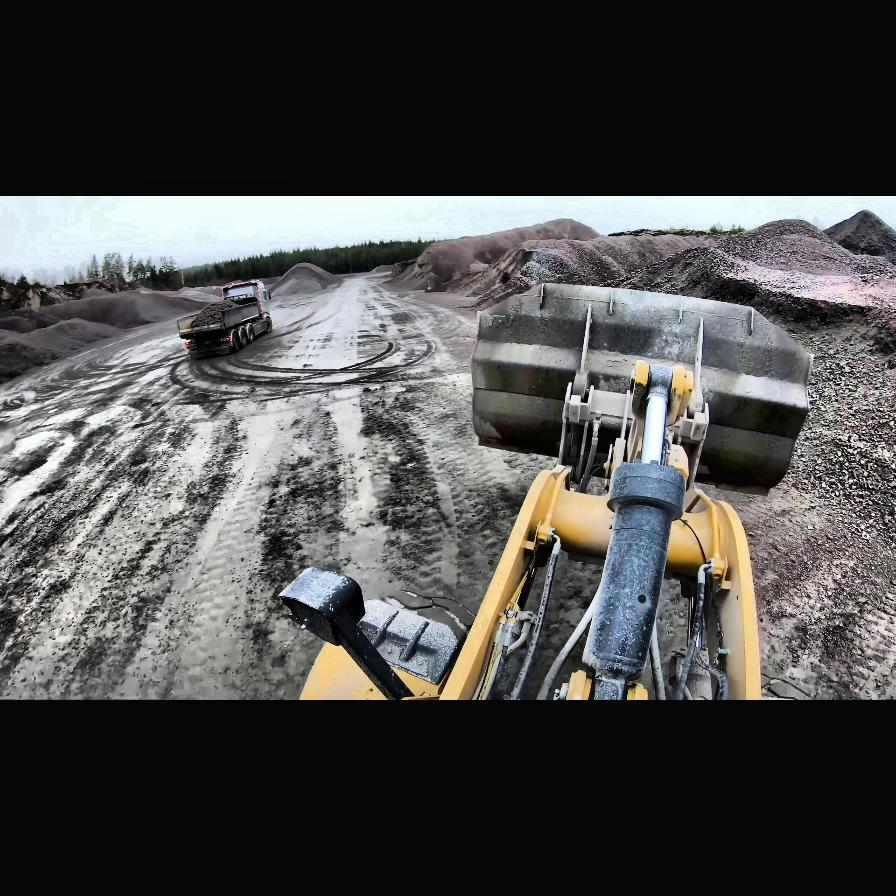anchor: (628, 360, 694, 430)
pile of gravel: (478, 215, 896, 329), (429, 220, 589, 310), (3, 284, 208, 340), (1, 316, 129, 386), (264, 263, 338, 295), (380, 257, 435, 291)
